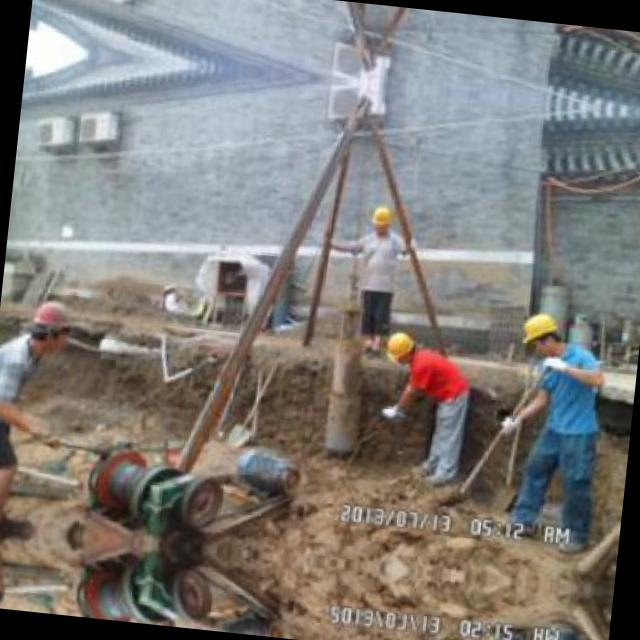helmet: (519, 304, 564, 360), (27, 296, 72, 352), (378, 324, 422, 366), (367, 198, 397, 238)
